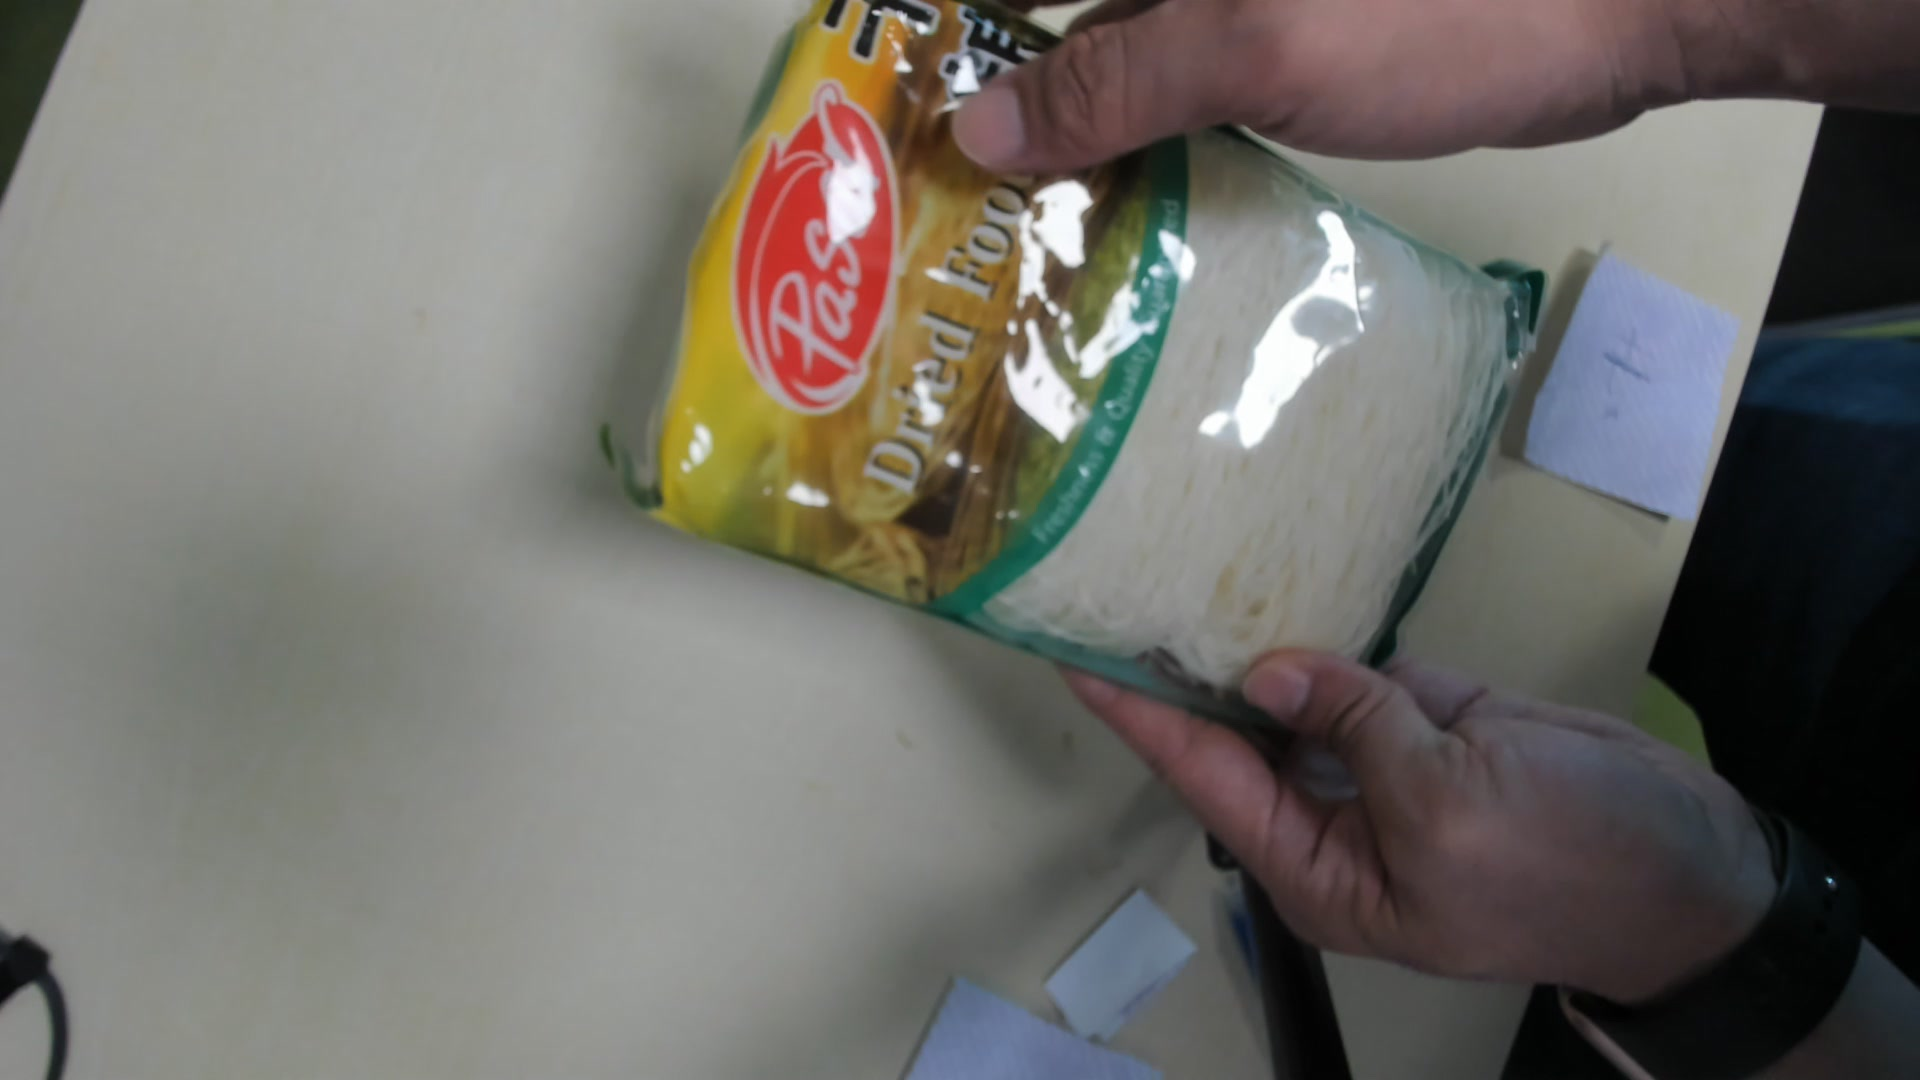BeeHoonVermicelli_100-199g_NonHalal_NonHealthy: (634, 3, 1538, 744)
